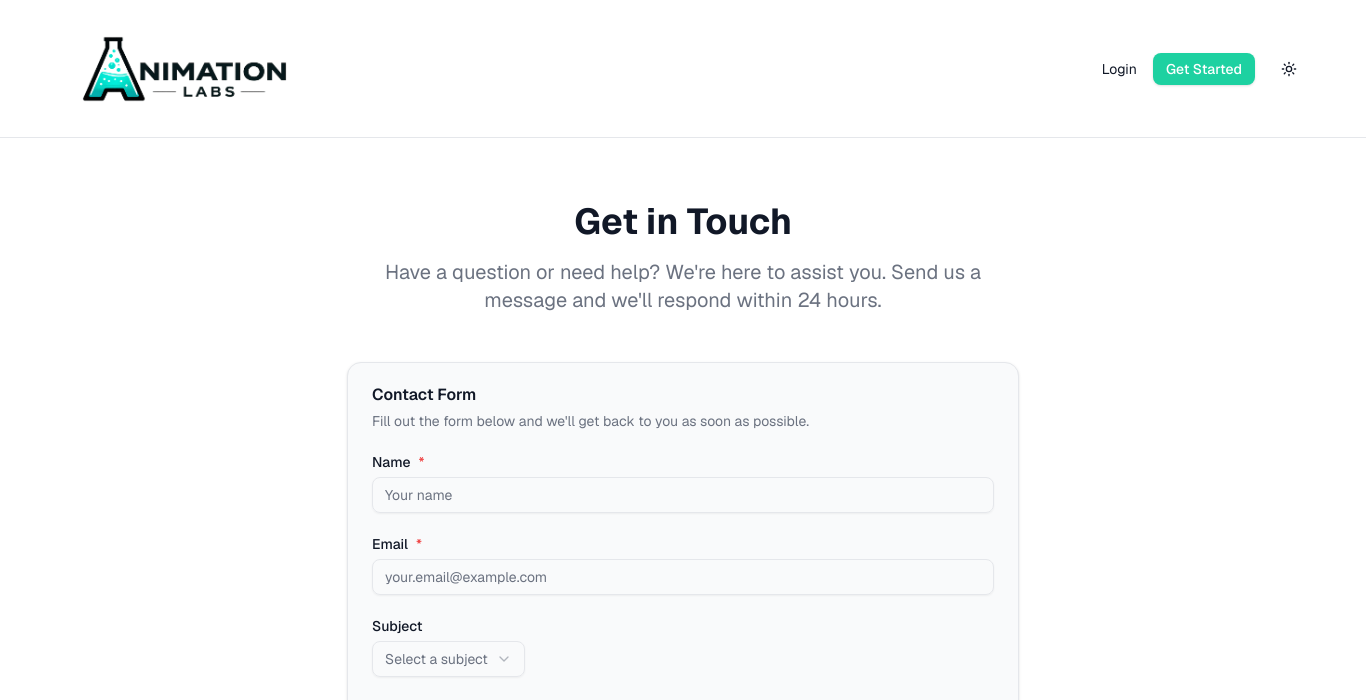
Contact Page › validates message minimum length
The image size is (1366, 700).
In the field labelled "Name *": (683, 495) [372, 477, 994, 513], type "John Doe"
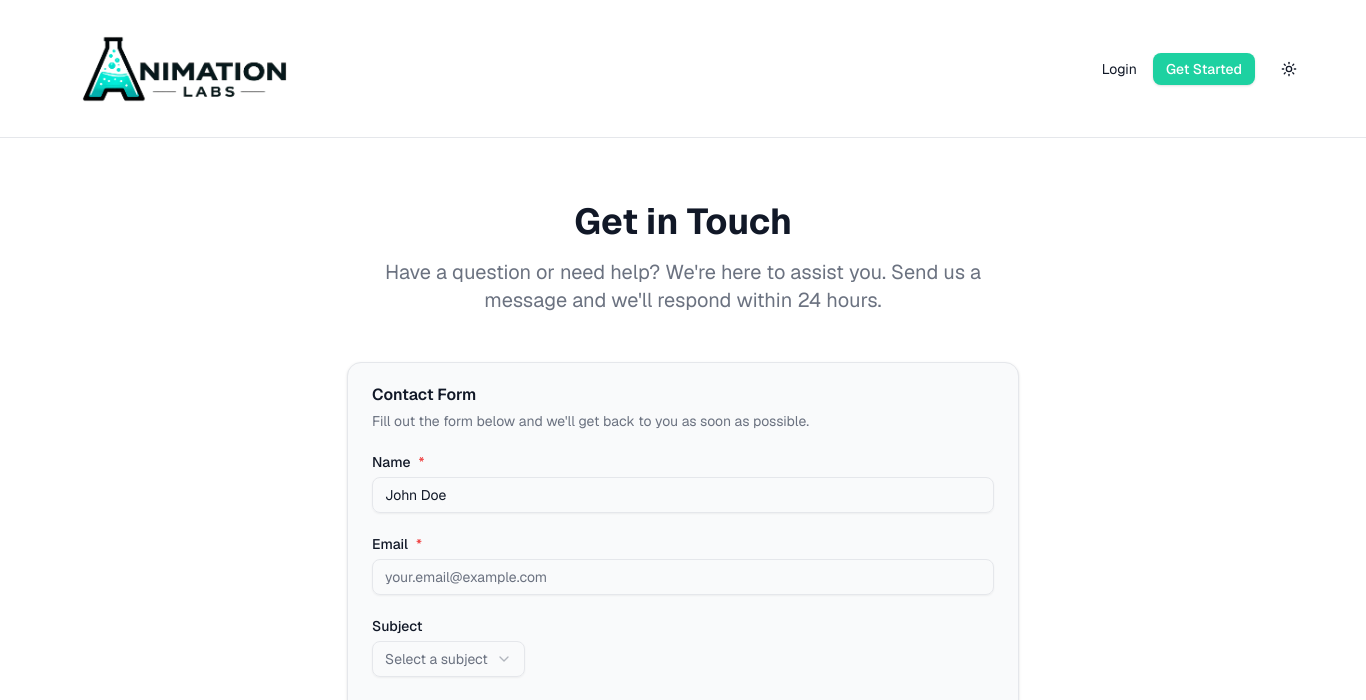
In the field labelled "Email *": (683, 577) [372, 559, 994, 595], type "john@example.com"
(page scrolled)
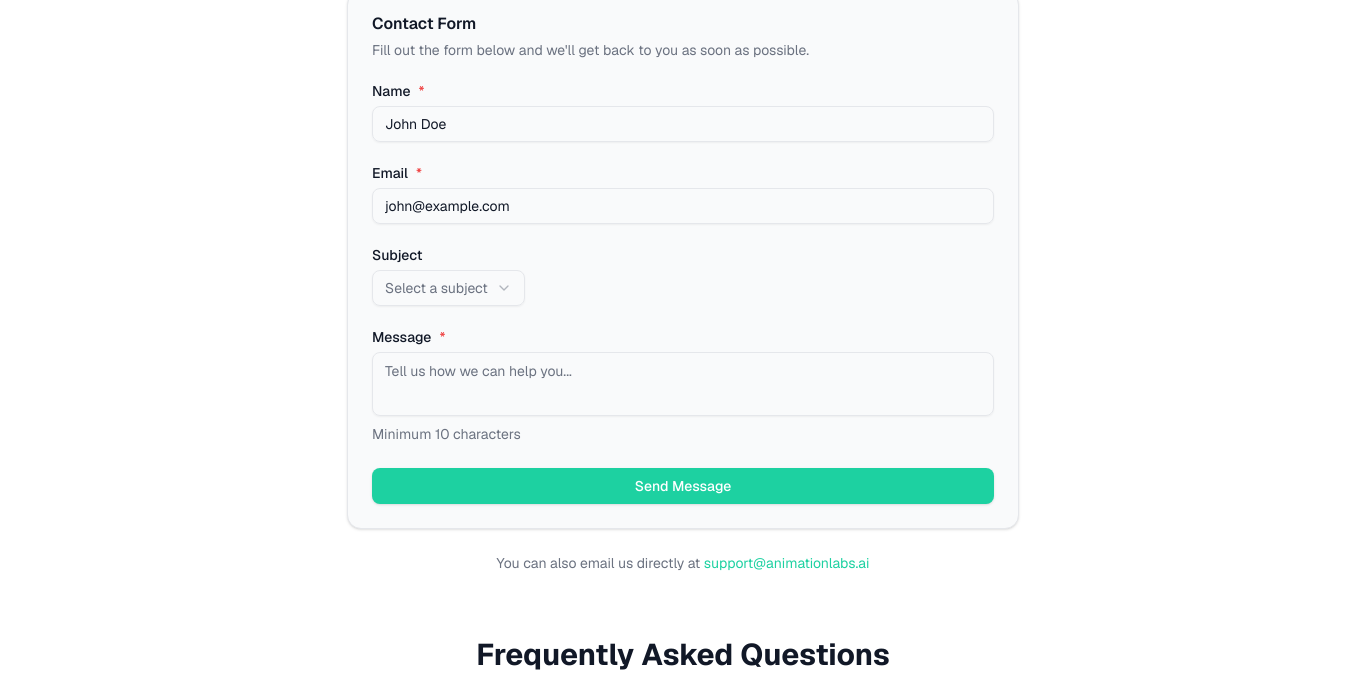
In the text box labelled "Message *": (683, 384) [372, 352, 994, 416], type "Short"
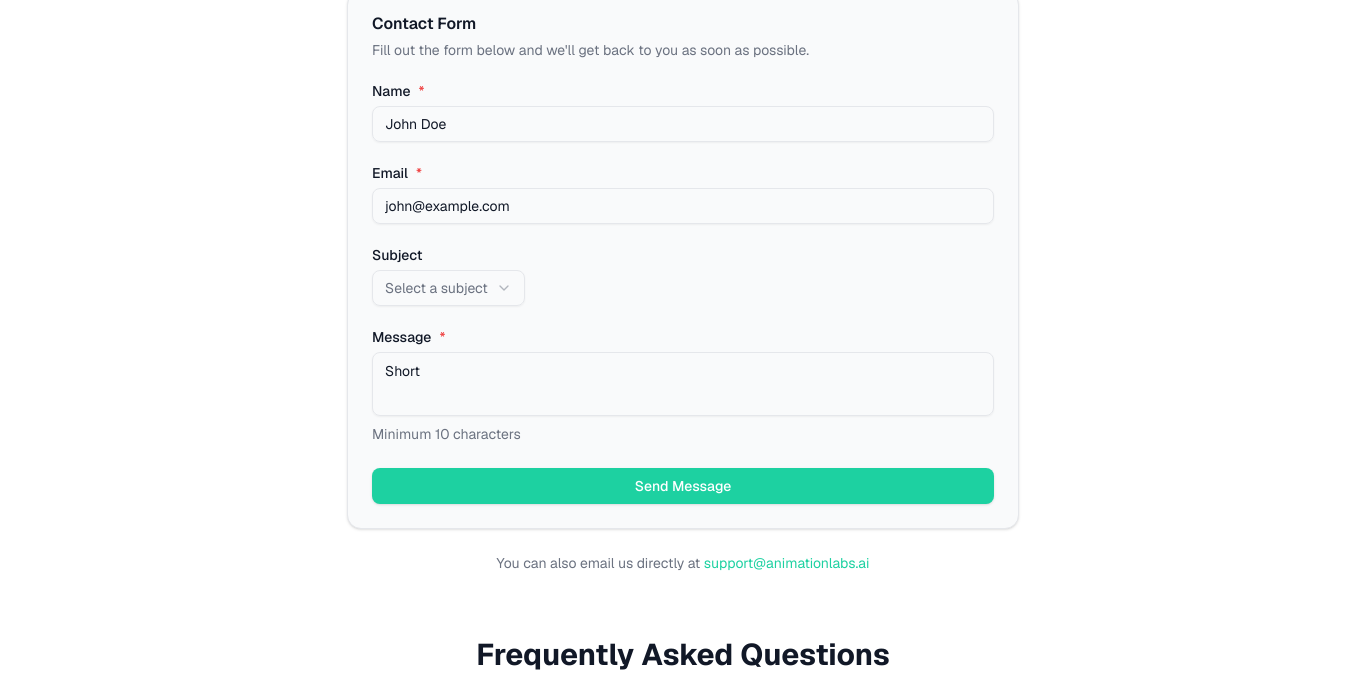
Click the button "Send Message": (683, 486) [372, 468, 994, 504]
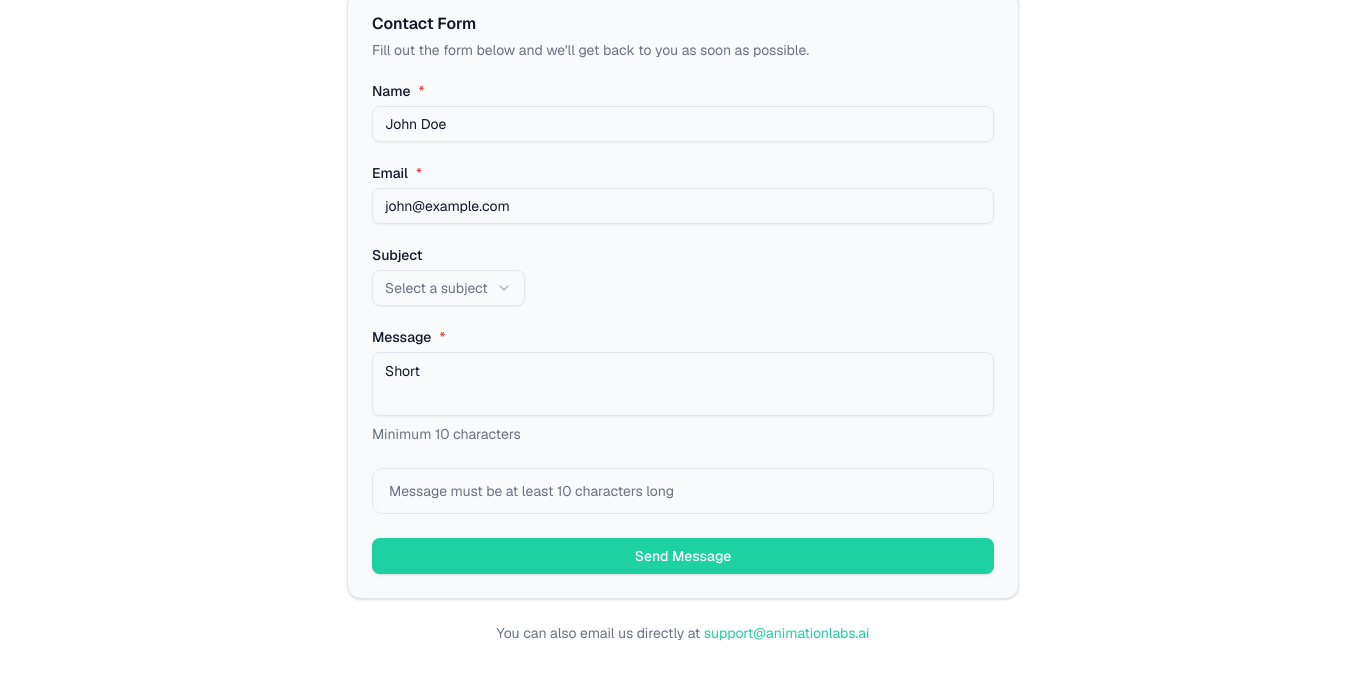
Expected: the text "Message must be at least 10 characters long" is shown, [389, 482, 674, 500]
